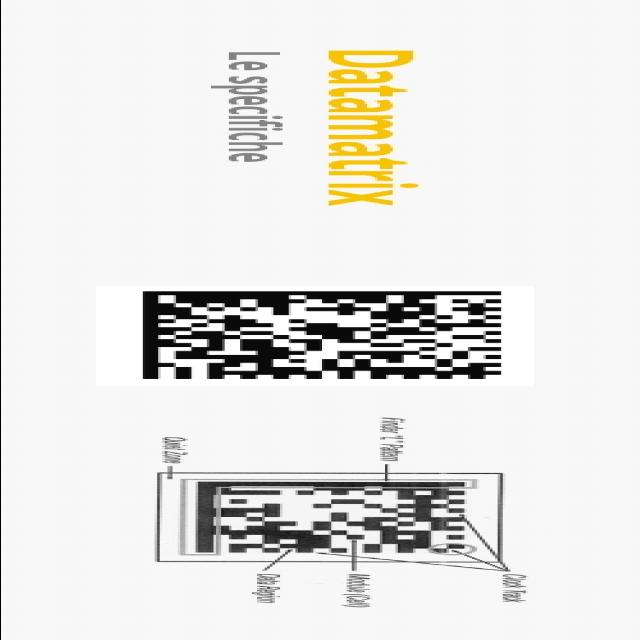DataMatrix: (95, 286, 533, 386), (177, 481, 471, 555)
